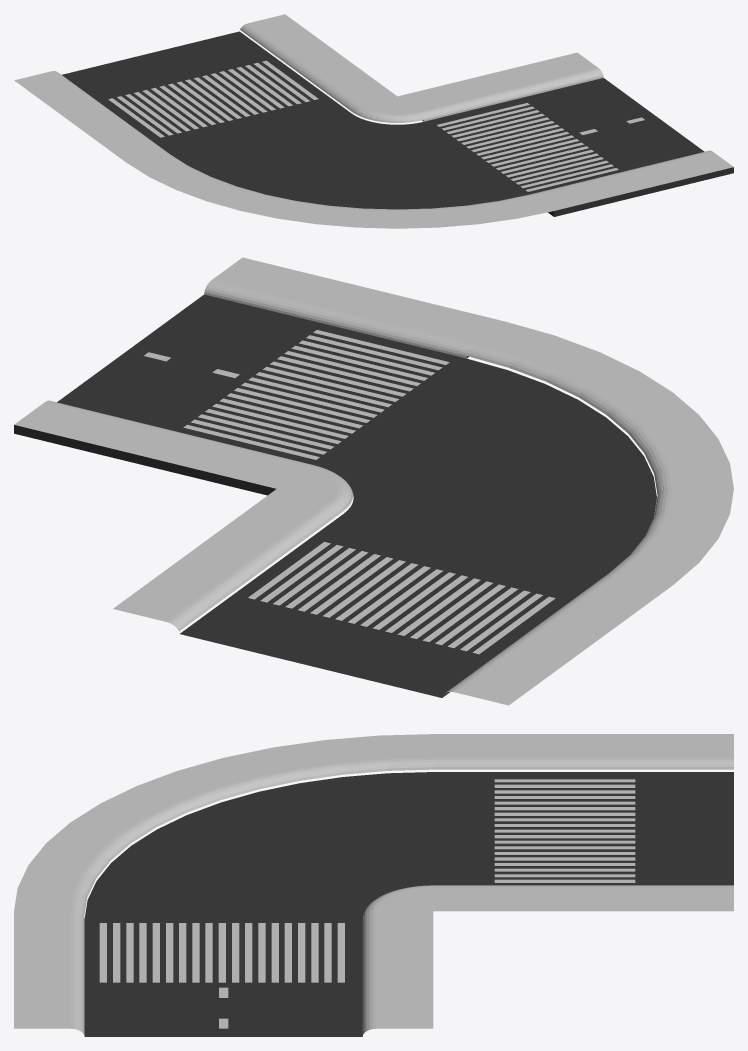
The model's file is RoadCorner.obj.
3 views of the same model, one above another, from view 1: azimuth 30°, elevation 25°; view 2: azimuth 150°, elevation 25°; view 3: azimuth 270°, elevation 25° (orthographic). The views are drawn at different scales.
Parts seen in each view (by area): view 1: Plane.016_Plane.018_Material.004, Plane.016_Plane.018_Material.003; view 2: Plane.016_Plane.018_Material.004, Plane.016_Plane.018_Material.003; view 3: Plane.016_Plane.018_Material.004, Plane.016_Plane.018_Material.003.
Boxes of the visible parts, left/top/right/bottom form: Plane.016_Plane.018_Material.004: left=62, top=31, right=733, bottom=216; Plane.016_Plane.018_Material.003: left=14, top=14, right=733, bottom=228; Plane.016_Plane.018_Material.004: left=14, top=294, right=656, bottom=697; Plane.016_Plane.018_Material.003: left=14, top=257, right=733, bottom=705; Plane.016_Plane.018_Material.004: left=84, top=772, right=733, bottom=1036; Plane.016_Plane.018_Material.003: left=14, top=734, right=733, bottom=1036.
Bounding box in the file's own units: 5.01 × 0.0645 × 5.18.
2 materials, 2 textured.
